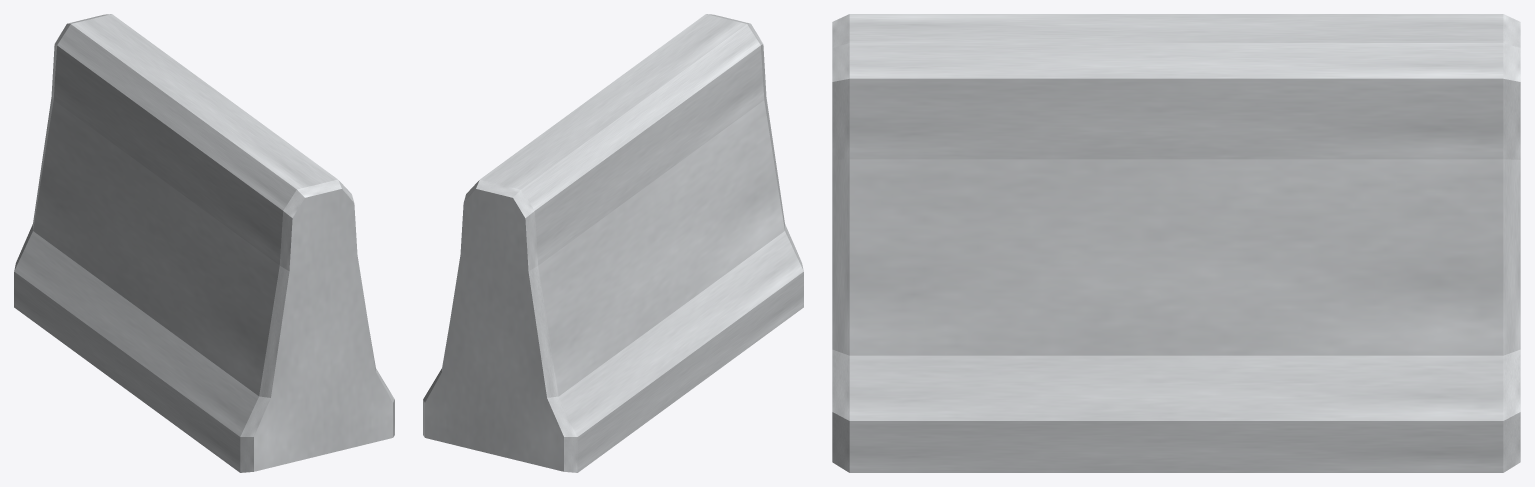
File: SM_Morin_NJPlastica_Bianca.fbx
3 views of the same model, side by side, from view 1: azimuth 30°, elevation 25°; view 2: azimuth 150°, elevation 25°; view 3: azimuth 270°, elevation 25° (orthographic). The views are drawn at different scales.
Parts seen in each view (by area): view 1: SM_Morin_NJPlastica_Bianca; view 2: SM_Morin_NJPlastica_Bianca; view 3: SM_Morin_NJPlastica_Bianca.
Part boxes in pixels (box(x1,y1,x2,y2)): SM_Morin_NJPlastica_Bianca: box(14, 14, 394, 472); SM_Morin_NJPlastica_Bianca: box(423, 14, 803, 472); SM_Morin_NJPlastica_Bianca: box(832, 14, 1520, 472).
Size of what is drawn, in the model's own units: 45 by 120 by 75.
1 material, 1 textured.
